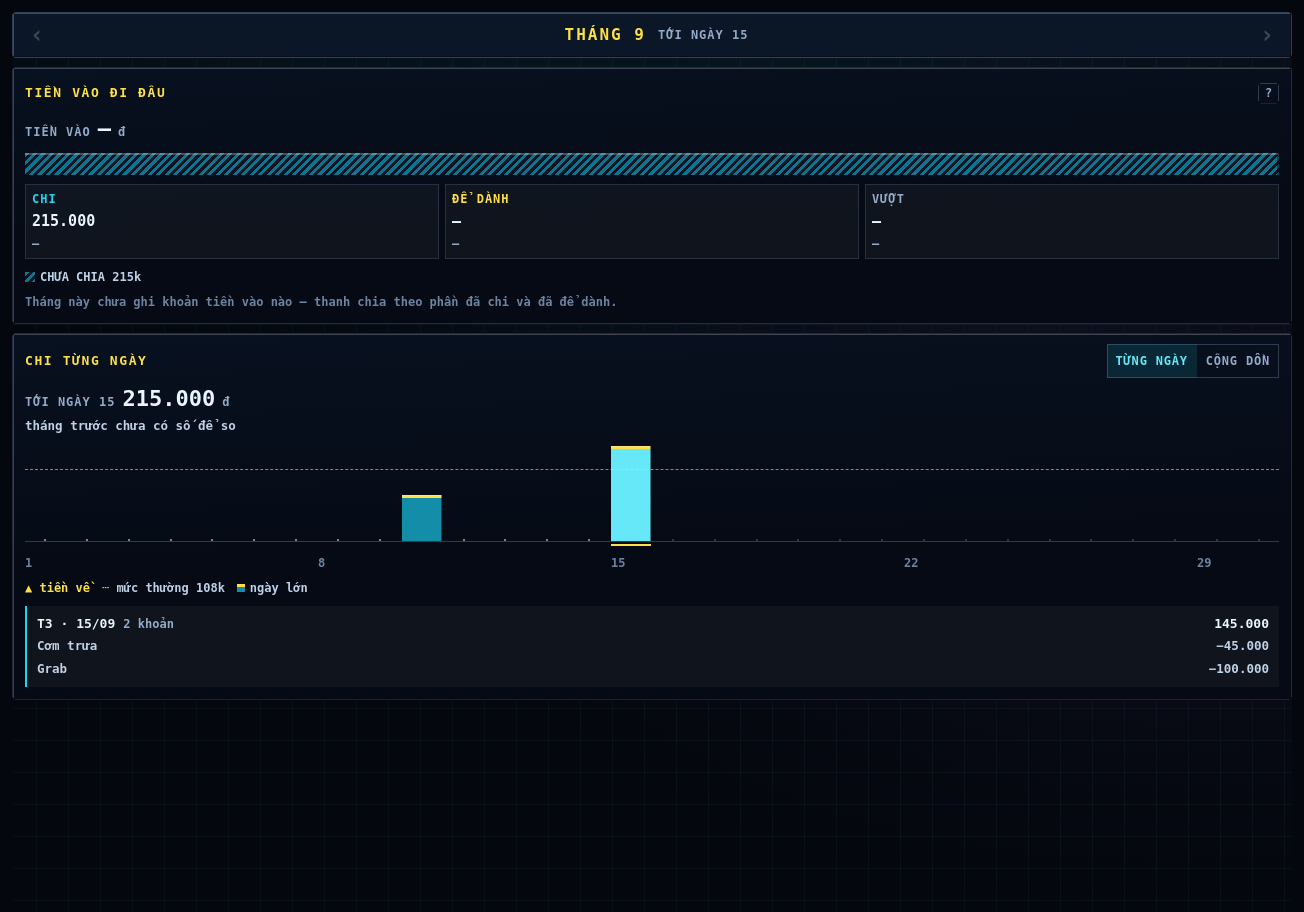
Test: §II — CHI TỪNG NGÀY: cột là tiêu thật, chạm cột đọc đúng ngày › ⭐⭐ tháng đang chạy chọn sẵn HÔM NAY; chạm một cột ⇒ khoản của đúng ngày ấy (ghi chú của chính khoản)
Expected: the text "Cơm trưa" is shown, 37,637 -> 97,656
Expected: the text "145.000" is shown, 1214,614 -> 1269,633
Click the button named "10/09: 70.000 đ" at (422, 493), box 402,446 -> 442,541
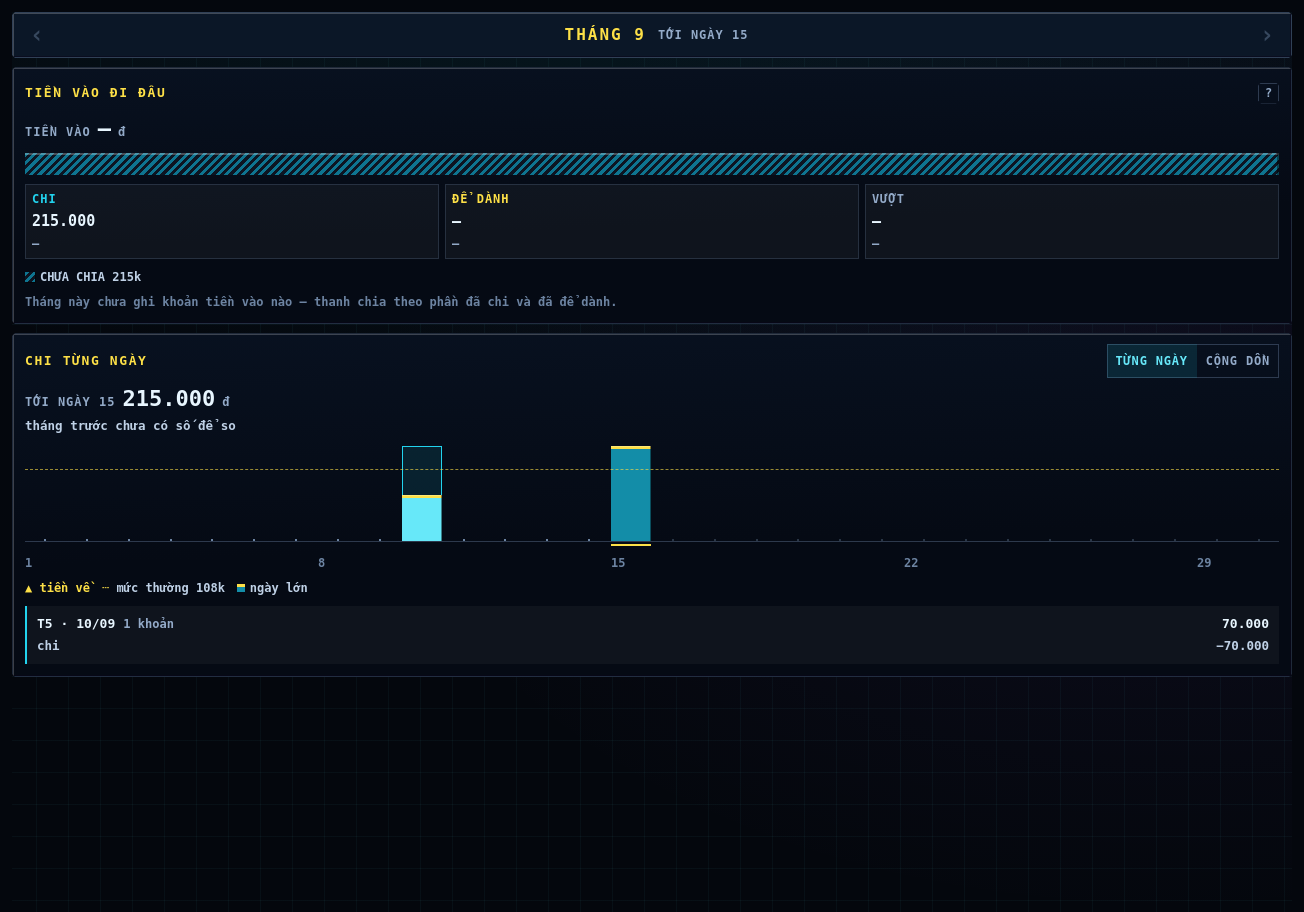
Expected: the element with test id "tn-chi-tiet" shows "10/09", 37,616 -> 115,631
Expected: the text "chi" is shown, 37,637 -> 60,656
